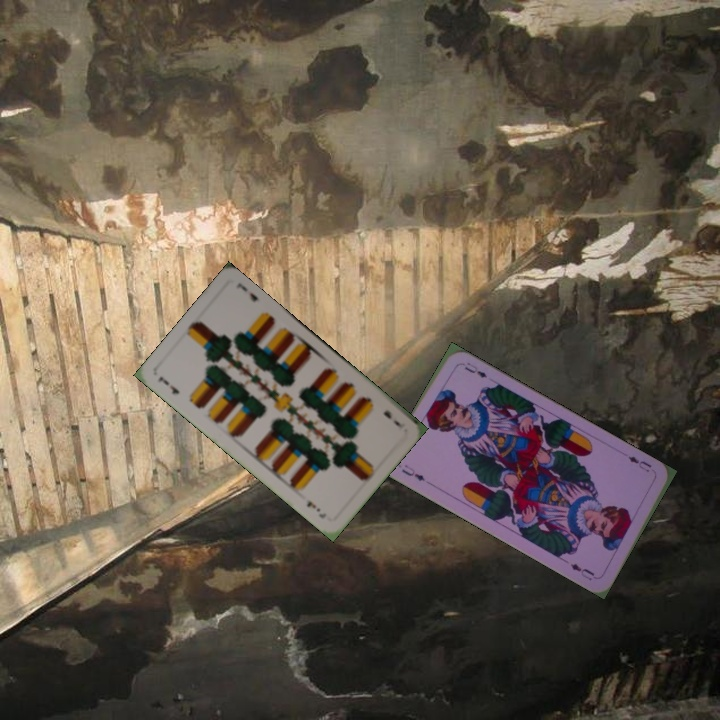E7: (379, 406, 408, 431), (153, 372, 182, 397)
EU: (397, 460, 427, 484), (624, 452, 654, 475)
